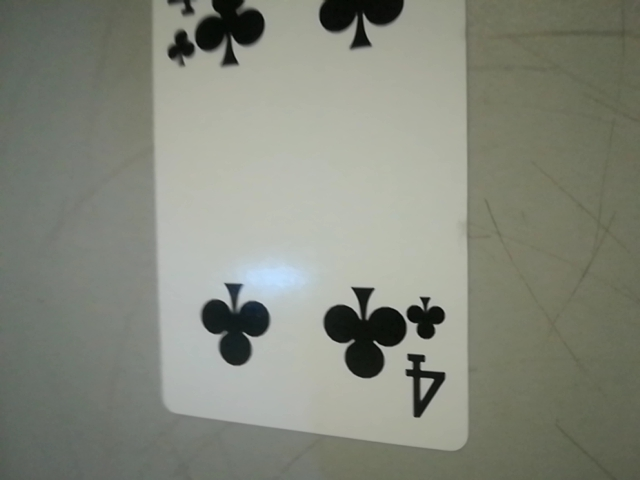mh 4: (395, 283, 462, 430)
